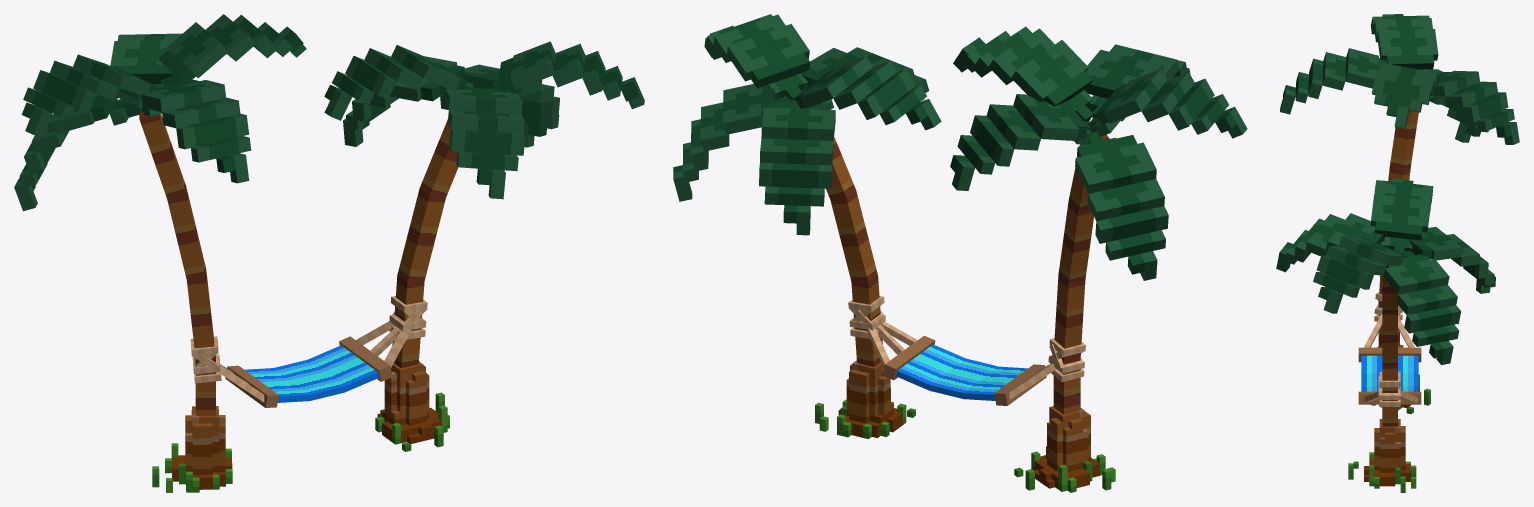
Rendered from deco_6x3_hammock.gltf.
3 renders of one model, left to right at view 1: azimuth 30°, elevation 25°; view 2: azimuth 150°, elevation 25°; view 3: azimuth 270°, elevation 25°, orthographic. The views are drawn at different scales.
Visible parts, largest first — view 1: Tree_b3$$(1)-Local, Tree_b5-Local, Tree_b2$$(1)-Local, Tree_b4$$(1)-Local, Tree_b3-Local, Tree_b4-Local, Tree01-Local, Tree02-Local, Tree_b25-Local, Tree_b1-Local, Tree01_02-Local, Tree_b2-Local (+12 smaller); view 2: Tree_b25-Local, Tree_b2-Local, Tree_b4$$(1)-Local, Tree_b1$$(1)-Local, Tree_b2$$(1)-Local, Tree_b3-Local, Tree_b4-Local, Tree02-Local, Tree_b1-Local, Tree01-Local, Tree_b3$$(1)-Local, Tree01_02-Local (+11 smaller); view 3: Tree_b1-Local, Tree_b4-Local, Tree_b3-Local, Tree_b1$$(1)-Local, Tree_b2$$(1)-Local, Tree_b3$$(1)-Local, Tree_b4$$(1)-Local, Tree01-Local, Tree_b5-Local, Tree_b2-Local, Tree01_04-Local, Tree01_02-Local (+8 smaller).
Boxes of the visible parts, left/top/right/bottom form: Tree_b3$$(1)-Local: left=141, top=79, right=251, bottom=183; Tree_b5-Local: left=443, top=87, right=525, bottom=199; Tree_b2$$(1)-Local: left=21, top=54, right=156, bottom=137; Tree_b4$$(1)-Local: left=158, top=14, right=306, bottom=86; Tree_b3-Local: left=324, top=45, right=468, bottom=120; Tree_b4-Local: left=488, top=41, right=644, bottom=109; Tree01-Local: left=375, top=361, right=449, bottom=451; Tree02-Local: left=152, top=406, right=232, bottom=492; Tree_b25-Local: left=14, top=94, right=141, bottom=211; Tree_b1-Local: left=463, top=64, right=559, bottom=147; Tree01_02-Local: left=397, top=188, right=445, bottom=283; Tree_b2-Local: left=343, top=56, right=473, bottom=146; Tree_b25-Local: left=1075, top=132, right=1168, bottom=280; Tree_b2-Local: left=759, top=100, right=835, bottom=235; Tree_b4$$(1)-Local: left=953, top=26, right=1093, bottom=121; Tree_b1$$(1)-Local: left=950, top=94, right=1092, bottom=190; Tree_b2$$(1)-Local: left=1088, top=69, right=1247, bottom=138; Tree_b3-Local: left=795, top=56, right=941, bottom=130; Tree_b4-Local: left=704, top=14, right=809, bottom=100; Tree02-Local: left=1014, top=406, right=1115, bottom=492; Tree_b1-Local: left=673, top=84, right=795, bottom=201; Tree01-Local: left=815, top=360, right=915, bottom=438; Tree_b3$$(1)-Local: left=1085, top=44, right=1190, bottom=121; Tree01_02-Local: left=830, top=190, right=877, bottom=283; Tree_b1-Local: left=1383, top=254, right=1461, bottom=364; Tree_b4-Local: left=1313, top=236, right=1404, bottom=313; Tree_b3-Local: left=1370, top=178, right=1433, bottom=253; Tree_b1$$(1)-Local: left=1430, top=70, right=1519, bottom=144; Tree_b2$$(1)-Local: left=1370, top=14, right=1438, bottom=71; Tree_b3$$(1)-Local: left=1280, top=48, right=1386, bottom=114; Tree_b4$$(1)-Local: left=1372, top=62, right=1439, bottom=129; Tree01-Local: left=1348, top=419, right=1416, bottom=492; Tree_b5-Local: left=1276, top=213, right=1384, bottom=272; Tree_b2-Local: left=1403, top=227, right=1495, bottom=293; Tree01_04-Local: left=1389, top=110, right=1418, bottom=169; Tree01_02-Local: left=1382, top=312, right=1397, bottom=365.
Size of the model in its own units: 101 by 72.64 by 46.7.
Materials: 40 (40 with a texture image).
